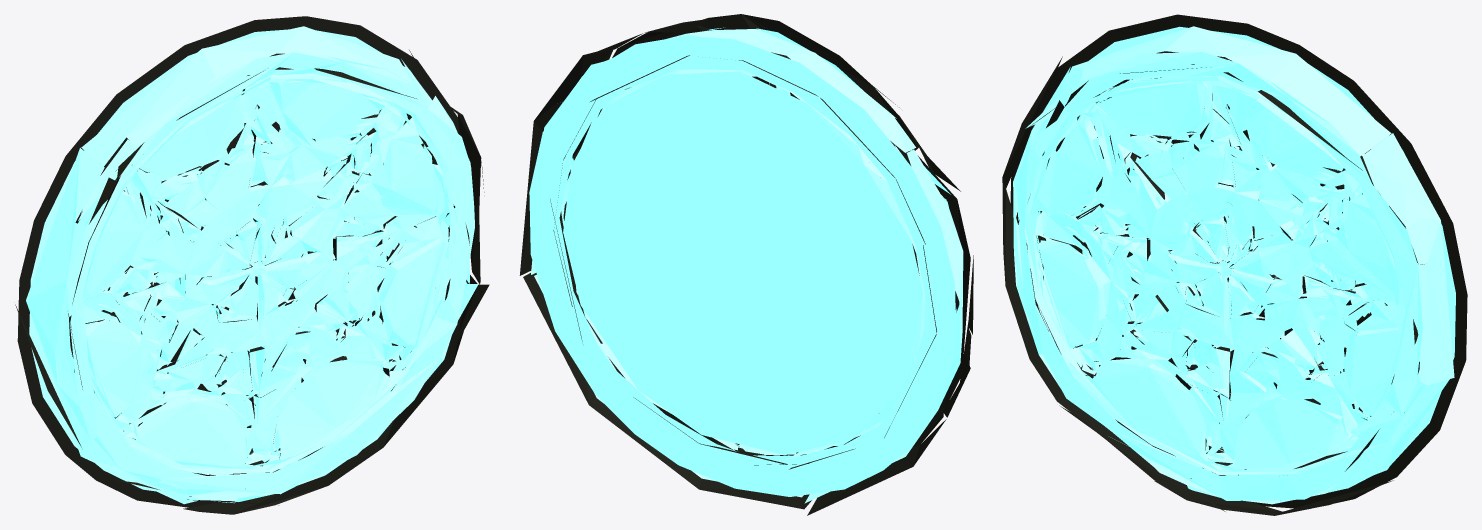
Rendered from df_v2_base_plot_marker_b_a.glb.
3 renders of one model, left to right at view 1: azimuth 30°, elevation 25°; view 2: azimuth 150°, elevation 25°; view 3: azimuth 330°, elevation 25°, orthographic. The views are drawn at different scales.
Visible parts, largest first — view 1: base_plot_marker_b_mesh_01, base_plot_marker_b_mesh_01_ink_outline; view 2: base_plot_marker_b_mesh_01, base_plot_marker_b_mesh_01_ink_outline; view 3: base_plot_marker_b_mesh_01, base_plot_marker_b_mesh_01_ink_outline.
Part boxes in pixels (x1,y1,x2,y2): base_plot_marker_b_mesh_01: (26,26,478,504); base_plot_marker_b_mesh_01_ink_outline: (15,16,489,514); base_plot_marker_b_mesh_01: (529,27,963,503); base_plot_marker_b_mesh_01_ink_outline: (519,14,973,515); base_plot_marker_b_mesh_01: (1013,26,1455,504); base_plot_marker_b_mesh_01_ink_outline: (1002,14,1467,515).
Size of the model in its own units: 0.6341 by 0.6325 by 0.0638.
